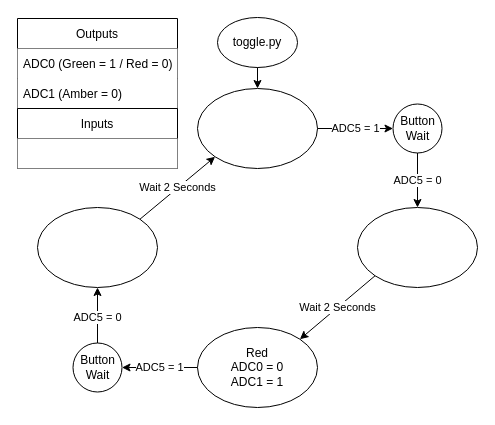
Some shapes in this 495 by 425 pixel diagram are drawn without their labels. The centre of each missing label's shape, as x and y in pixels:
ADC5 (Physical Button): point 97,153
Green + Amber ADC0 = 1 ADC1 = 0: point 417,247
Green ADC0 = 1 ADC1 = 1: point 257,128
Red + Amber ADC0 = 0 ADC1 = 0: point 97,247
